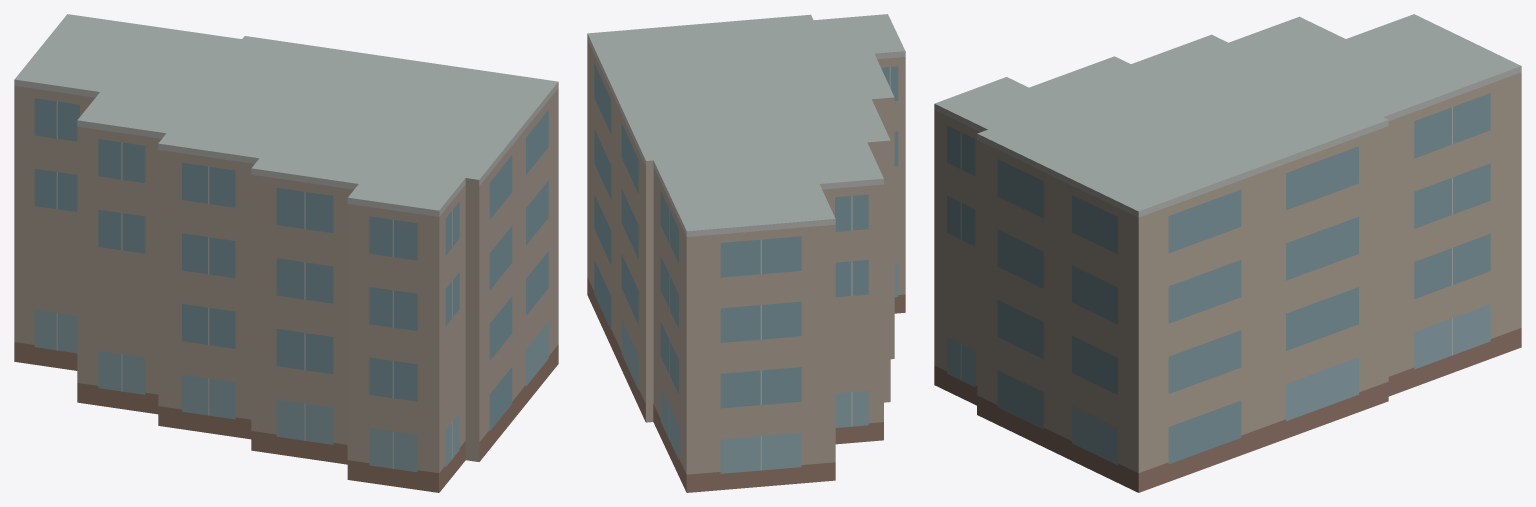
File: survey-upis-32969831.glb
The picture shows the model from 3 angles, left to right: view 1: azimuth 30°, elevation 25°; view 2: azimuth 150°, elevation 25°; view 3: azimuth 270°, elevation 25°; orthographic projection. The views are drawn at different scales.
Visible parts, largest first — view 1: survey-upis-32969831.tmp; view 2: survey-upis-32969831.tmp; view 3: survey-upis-32969831.tmp.
Boxes of the visible parts, box(x1,y1,x2,y2) form: survey-upis-32969831.tmp: box(14, 14, 558, 492); survey-upis-32969831.tmp: box(587, 14, 905, 492); survey-upis-32969831.tmp: box(934, 14, 1521, 492).
Size of the model in its own units: 16.57 by 11 by 20.81.
